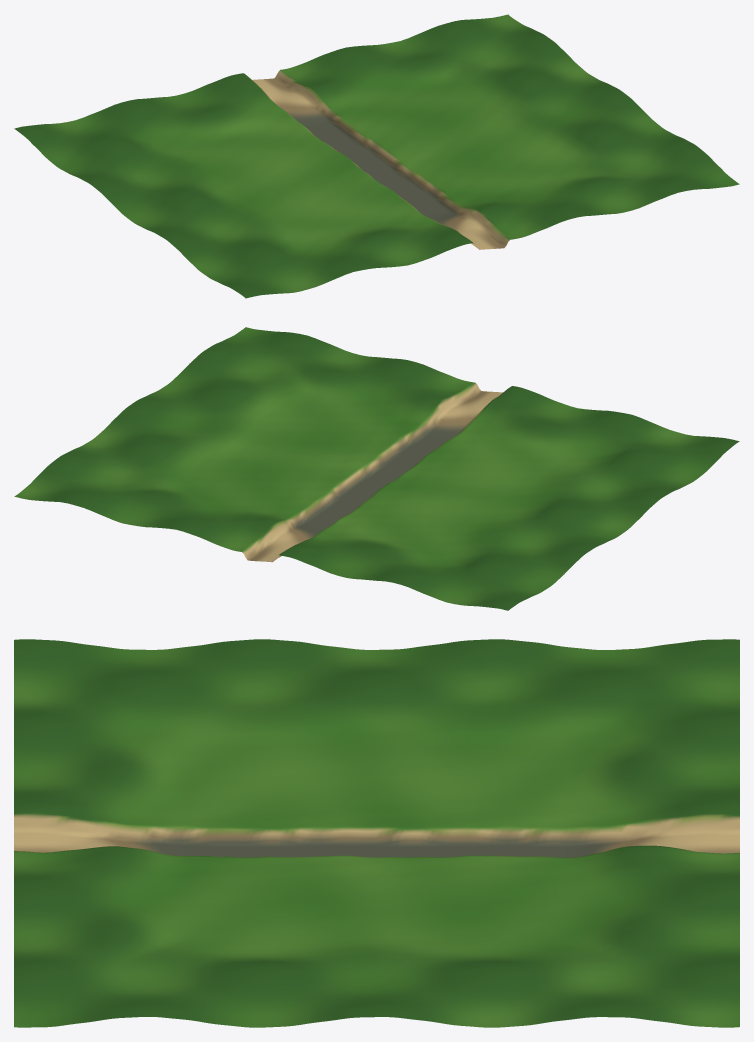
Rendered from terrain.glb.
3 renders of one model, top to bottom at view 1: azimuth 30°, elevation 25°; view 2: azimuth 150°, elevation 25°; view 3: azimuth 270°, elevation 25°, orthographic. The views are drawn at different scales.
Visible parts, largest first — view 1: Terrain; view 2: Terrain; view 3: Terrain.
Part boxes in pixels (box(x1,y1,x2,y2)): Terrain: box(14, 14, 739, 298); Terrain: box(14, 327, 739, 610); Terrain: box(14, 639, 739, 1027).
Bounding box in the file's own units: 64 × 2.12 × 52.
